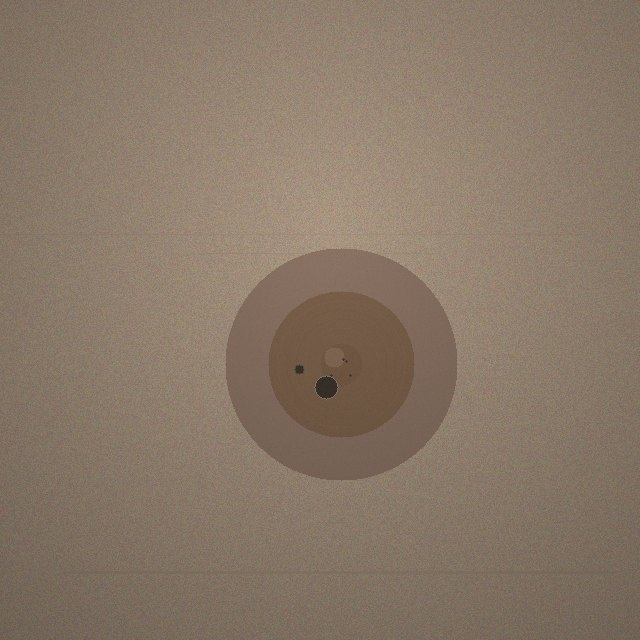shrinkage: (225, 248, 457, 480)
